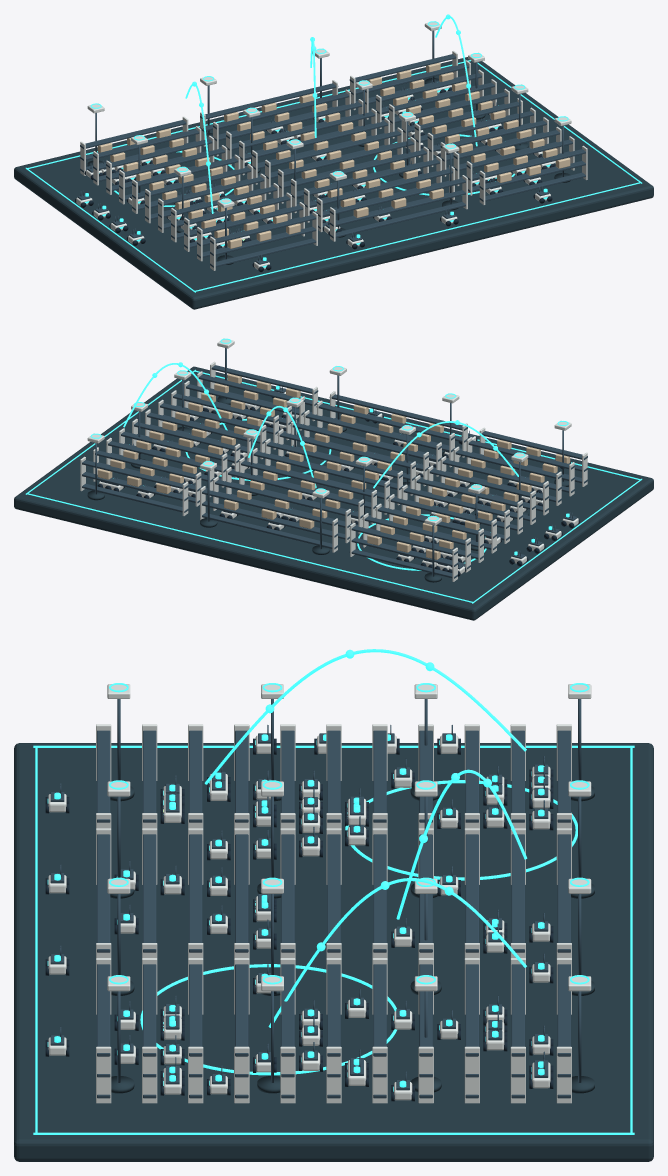
Rendered from warehouse.glb.
3 views of the same model, one above another, from view 1: azimuth 30°, elevation 25°; view 2: azimuth 150°, elevation 25°; view 3: azimuth 270°, elevation 25° (orthographic). The views are drawn at different scales.
Visible parts, largest first — view 1: warehouse_slab, warehouse_edge.002, shelf.005, shelf.003, shelf.023, shelf.050, shelf.014, shelf.041, shelf.068, shelf.077, shelf.095, shelf.086 (+30 smaller); view 2: warehouse_slab, warehouse_edge.003, shelf.068, shelf.086, shelf.023, shelf.093, shelf.095, shelf.059, shelf.032, shelf.041, shelf.005, shelf.050 (+31 smaller); view 3: warehouse_slab, warehouse_edge.001, shelf.014, shelf.023, shelf.032, shelf.095, shelf.041, shelf.005, shelf.077, shelf.050, shelf.059, shelf.086 (+42 smaller).
Boxes of the visible parts, x1,y1,x2,y2 form: warehouse_slab: (14,57,653,309); warehouse_edge.002: (195,182,640,291); shelf.005: (329,178,465,214); shelf.003: (329,202,465,238); shelf.023: (303,159,439,195); shelf.050: (265,131,401,167); shelf.014: (316,169,452,205); shelf.041: (277,140,414,176); shelf.068: (239,112,377,148); shelf.077: (226,102,362,138); shelf.095: (200,83,338,119); shelf.086: (213,93,351,129); warehouse_slab: (14,366,653,620); warehouse_edge.003: (27,493,472,602); shelf.068: (241,461,377,497); shelf.086: (215,480,351,516); shelf.023: (303,413,441,449); shelf.093: (202,513,338,549); shelf.095: (202,489,338,525); shelf.059: (253,451,390,487); shelf.032: (290,423,428,459); shelf.041: (277,432,415,468); shelf.005: (329,394,467,430); shelf.050: (266,442,402,478); warehouse_slab: (14,743,653,1161); warehouse_edge.001: (33,1132,634,1134); shelf.014: (143,834,156,952); shelf.023: (189,834,202,952); shelf.032: (235,834,248,952); shelf.095: (557,834,570,952); shelf.041: (281,834,294,952); shelf.005: (97,834,110,952); shelf.077: (465,834,478,952); shelf.050: (327,834,340,952); shelf.059: (373,834,386,952); shelf.086: (511,834,524,952).
Size of the model in its own units: 14.8 by 3.6 by 10.
